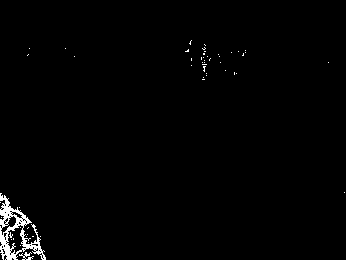person: (1, 192, 45, 260)
